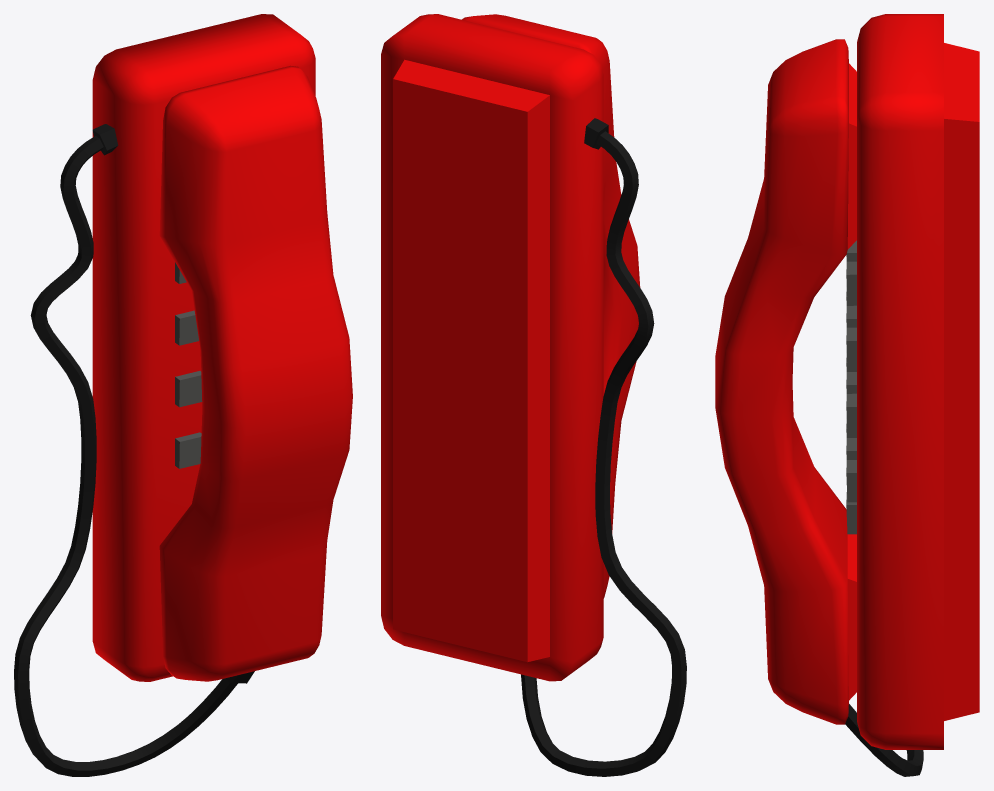
File: RE_PropPhone.FBX
The picture shows the model from 3 angles, left to right: view 1: azimuth 30°, elevation 25°; view 2: azimuth 150°, elevation 25°; view 3: azimuth 270°, elevation 25°; orthographic projection. The views are drawn at different scales.
Parts seen in each view (by area): view 1: RE_PropPhone; view 2: RE_PropPhone; view 3: RE_PropPhone.
Boxes of the visible parts, x1,y1,x2,y2 form: RE_PropPhone: [14, 14, 352, 776]; RE_PropPhone: [381, 14, 686, 776]; RE_PropPhone: [715, 14, 979, 776].
Size of the model in its own units: 5.98 by 14.13 by 4.46.
